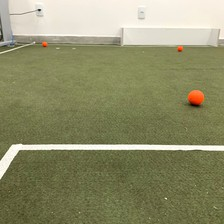ball: (186, 88, 204, 106), (175, 44, 183, 52), (40, 40, 48, 48)
goal: (117, 24, 220, 47)
